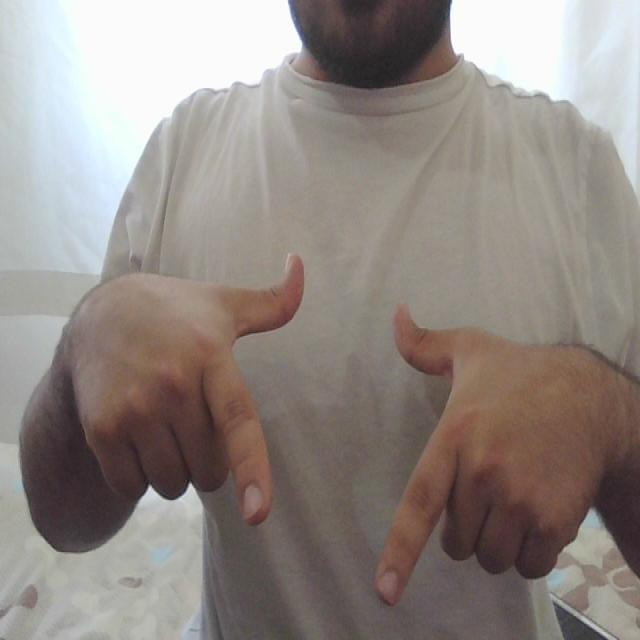Nerede: (185, 247, 489, 611)
